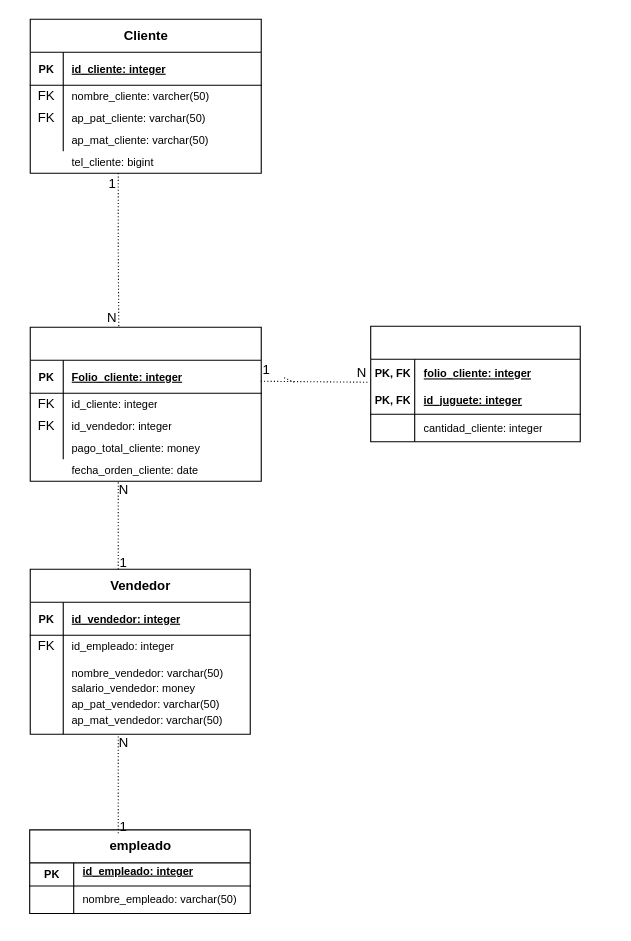
Some shapes in this 631 by 941 pixel diagram are drawn without their labels. The box of each missing label's shape, as (x1, y1, x2, y2) in pixels:
Compra_Cliente: (29, 326, 261, 481)
detalle_compra_cliente: (370, 325, 580, 442)
